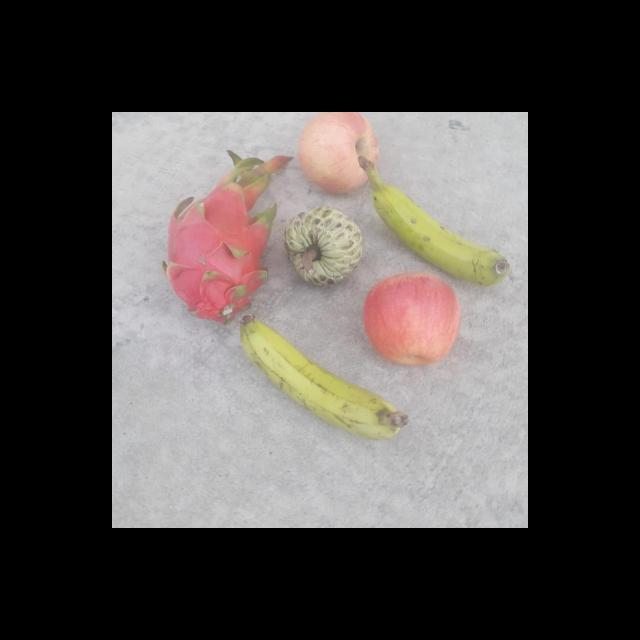Sakya fruit: (282, 204, 364, 290)
apple: (363, 270, 462, 366), (296, 112, 380, 195)
banana: (190, 313, 410, 439), (356, 156, 512, 286)
pitaya: (160, 176, 274, 328)
